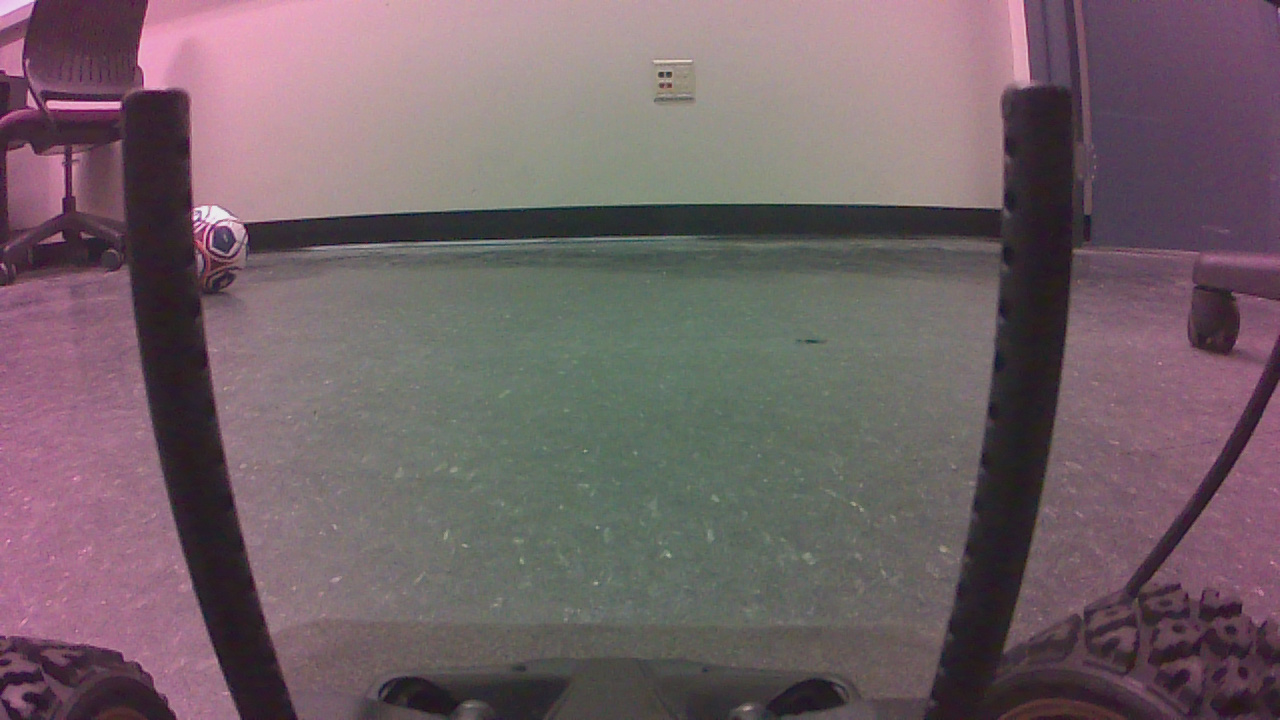ball: (177, 210, 257, 302)
